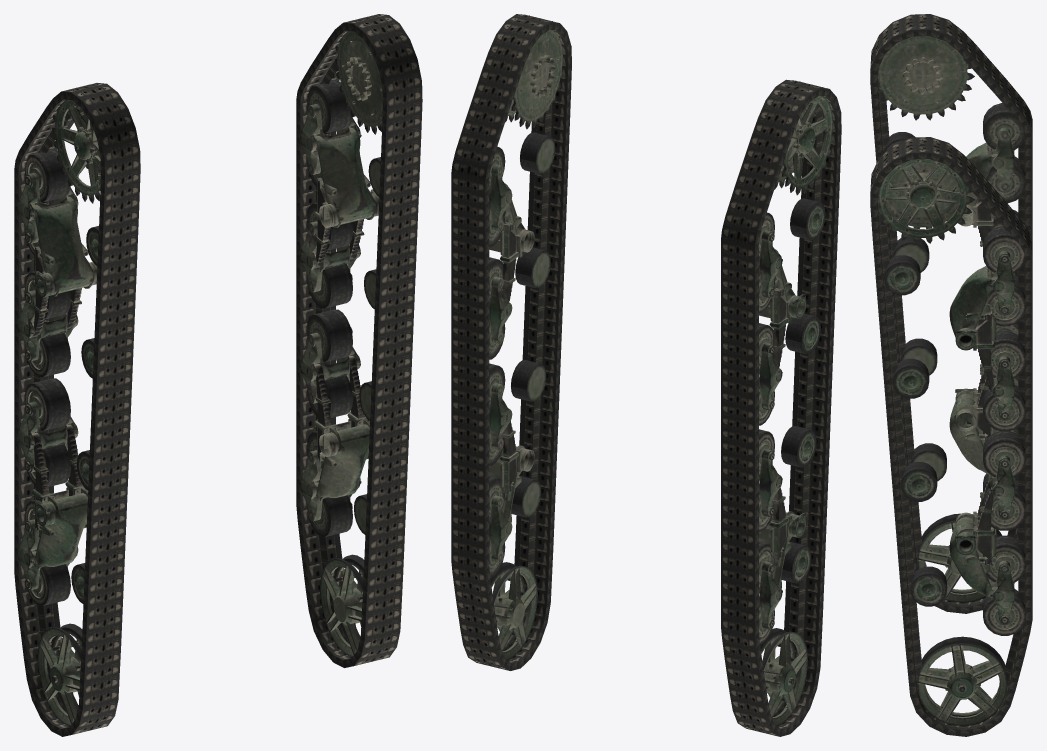
Rendered from Chassis.glb.
The picture shows the model from 3 angles, left to right: view 1: azimuth 30°, elevation 25°; view 2: azimuth 150°, elevation 25°; view 3: azimuth 270°, elevation 25°; orthographic projection. The views are drawn at different scales.
Parts seen in each view (by area): view 1: set_1_group_0, set_0_group_0, set_3_group_0, set_2_group_0; view 2: set_1_group_0, set_0_group_0, set_3_group_0, set_2_group_0; view 3: set_3_group_0, set_2_group_0, set_1_group_0, set_0_group_0.
Boxes of the visible parts, bbox=[...] form: set_1_group_0: bbox=[296, 14, 422, 667]; set_0_group_0: bbox=[14, 83, 140, 736]; set_3_group_0: bbox=[300, 15, 414, 657]; set_2_group_0: bbox=[18, 84, 131, 726]; set_1_group_0: bbox=[451, 14, 571, 670]; set_0_group_0: bbox=[721, 79, 841, 736]; set_3_group_0: bbox=[489, 15, 562, 659]; set_2_group_0: bbox=[758, 81, 833, 725]; set_3_group_0: bbox=[876, 139, 1025, 726]; set_2_group_0: bbox=[876, 16, 1025, 602]; set_1_group_0: bbox=[870, 137, 1032, 736]; set_0_group_0: bbox=[870, 14, 1032, 613].
Size of the model in its own units: 2.44 by 4.5 by 1.13.
Materials: 4 (4 with a texture image).
